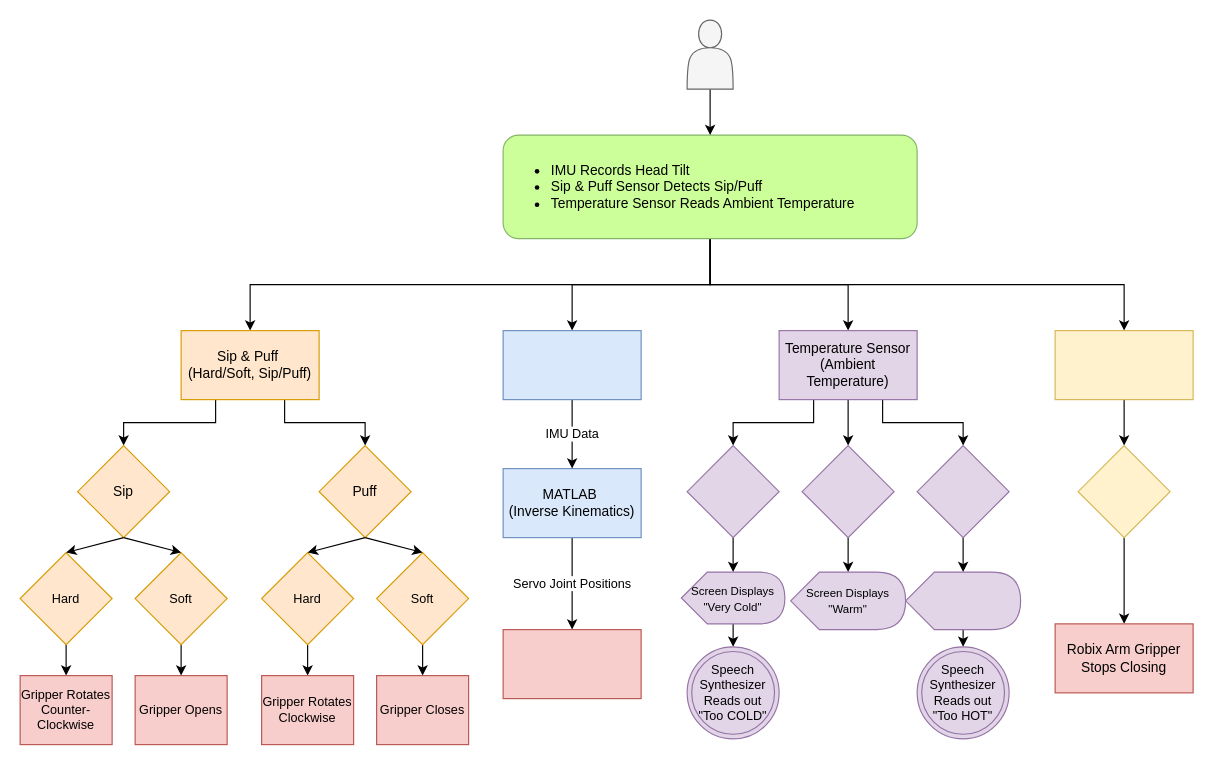
The diagram is 1213 pixels wide and 765 high, and some of its shapes have lost their labels. Here are the shapes that lost their labels. From the top down, the centre of each, then its label:
(709,54): User
(571,364): IMU (X, Y, Z Orientation)
(1123,364): Force Sensitive Resistor (Applied Force On Gripper)
(732,491): Temp < 0
(847,491): 0 < Temp < 80
(962,491): Temp > 80
(1123,491): Force > 700
(962,600): Screen Displays "Caution TOO HOT"
(571,663): Robix Arm Moves To Desired Position
